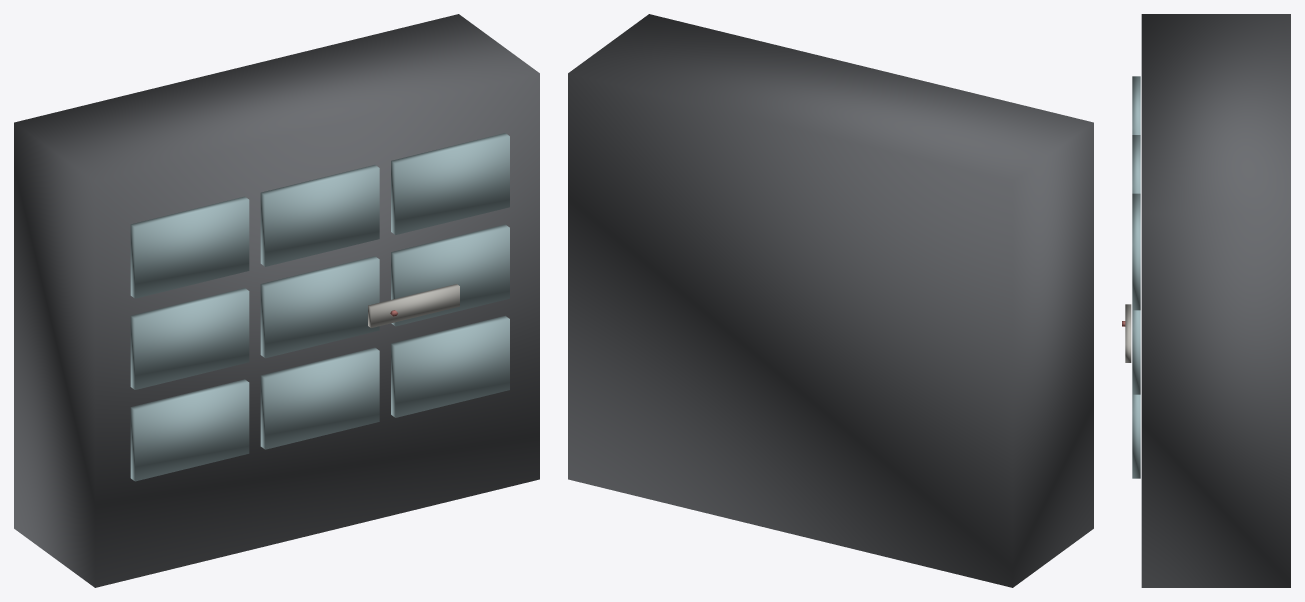
File: security_monitor_bank__squat.glb
3 renders of one model, left to right at view 1: azimuth 30°, elevation 25°; view 2: azimuth 150°, elevation 25°; view 3: azimuth 270°, elevation 25°, orthographic. The views are drawn at different scales.
Visible parts, largest first — view 1: world; view 2: world; view 3: world.
Part boxes in pixels (x1,y1,x2,y2): world: (14,14,539,587); world: (568,14,1093,587); world: (1122,14,1290,587).
Bounding box in the file's own units: 1.54 × 1.34 × 0.5492.
